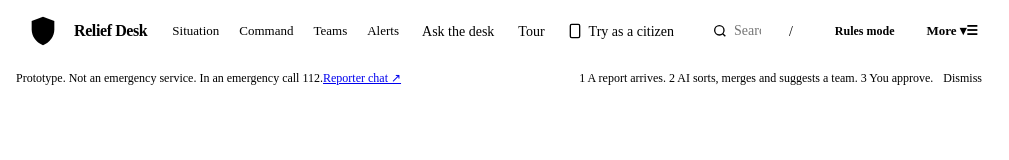
Test case: CoordinatorLayoutComponent demo phone › shows the three steps once, then stays dismissed
The image size is (1009, 160).
Click the button "Dismiss". click: [963, 78]
box: [933,67,992,89]
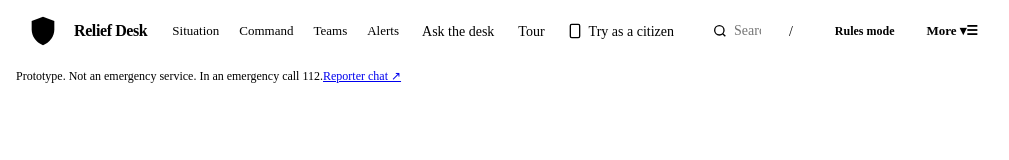
Expected: the element with class "guide-inline" is gone
